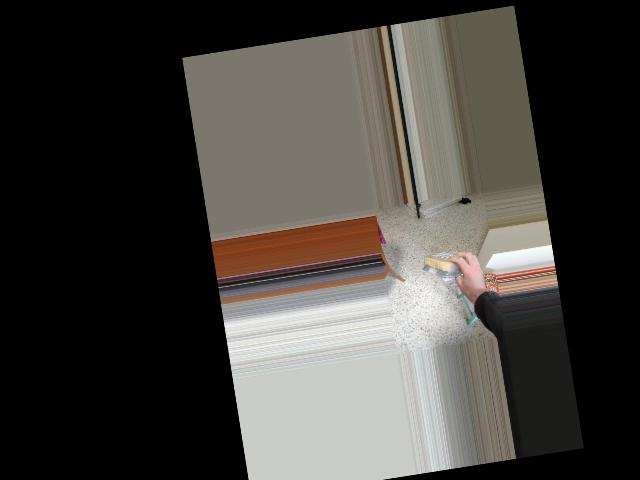cheese: (420, 248, 469, 278)
